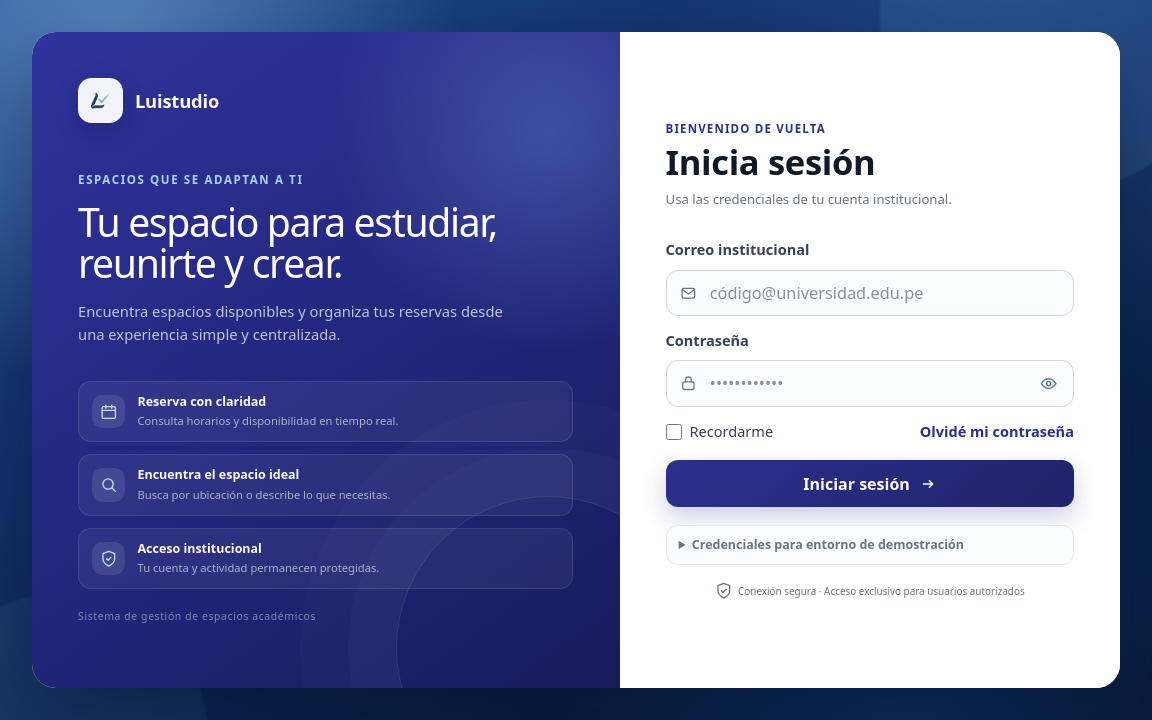
Test: Vista crítica: Login › muestra un mensaje de error (estado de error) cuando el login es rechazado por la API mockeada
The width and height of the screenshot is (1152, 720).
In the field labelled "Correo institucional": (870, 293) left=666, top=270, right=1074, bottom=316, type "user@test.com"
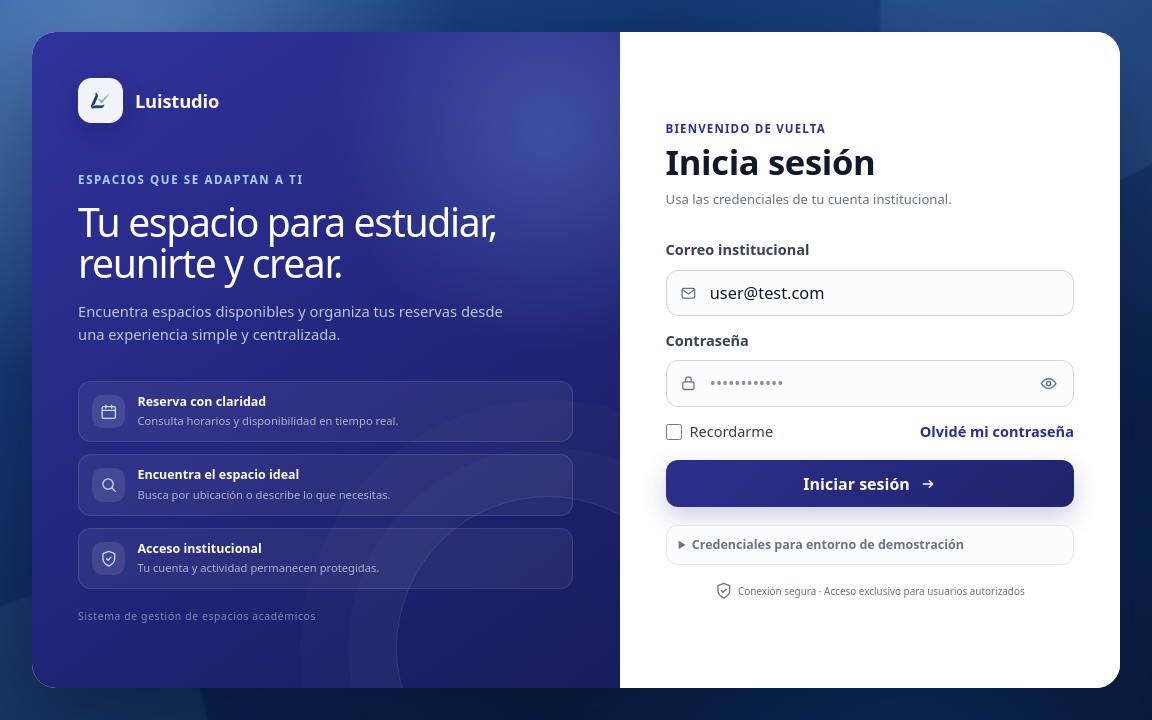
In the password field labelled "Contraseña": (870, 384) left=666, top=360, right=1074, bottom=407, type "WrongPass1!"
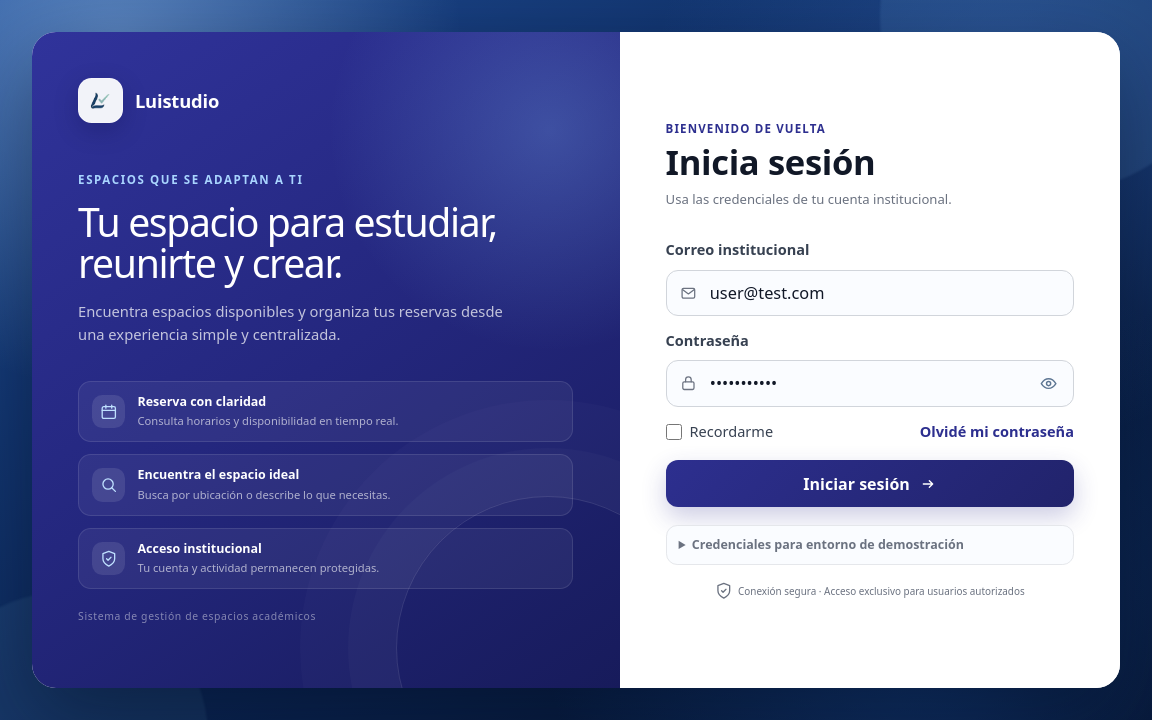
Click the button "Iniciar sesión": (870, 484) left=666, top=460, right=1074, bottom=507
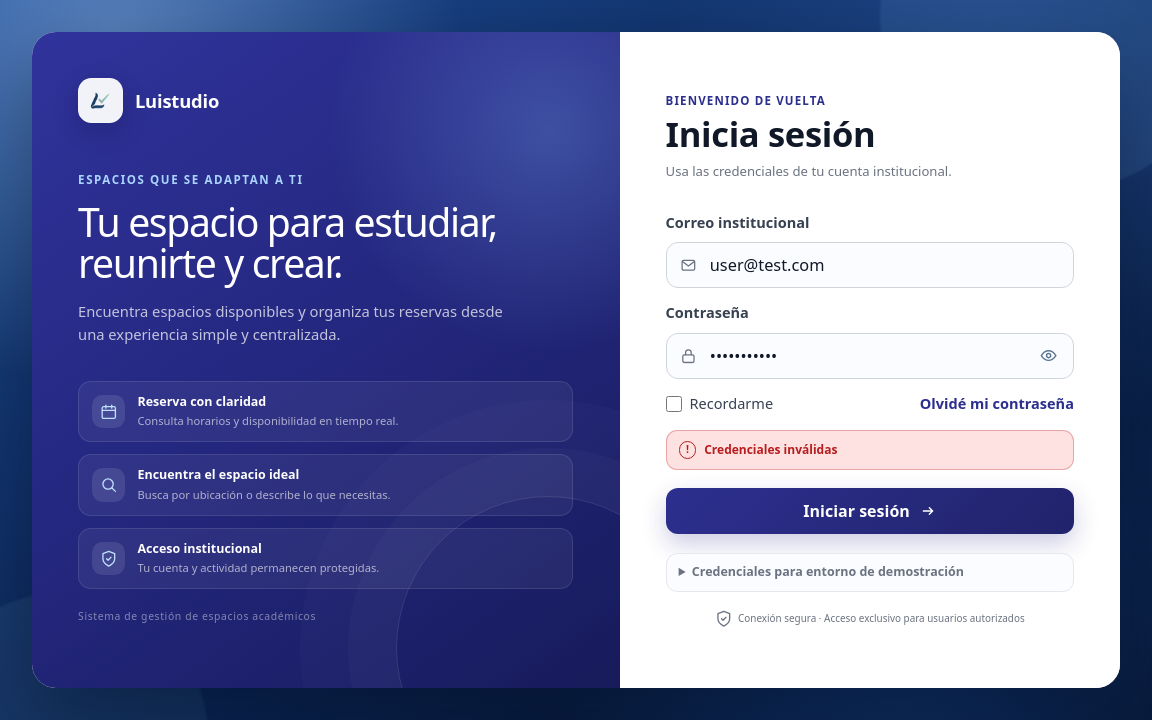
Check: the text "Credenciales inválidas" is shown, box left=704, top=441, right=837, bottom=458
